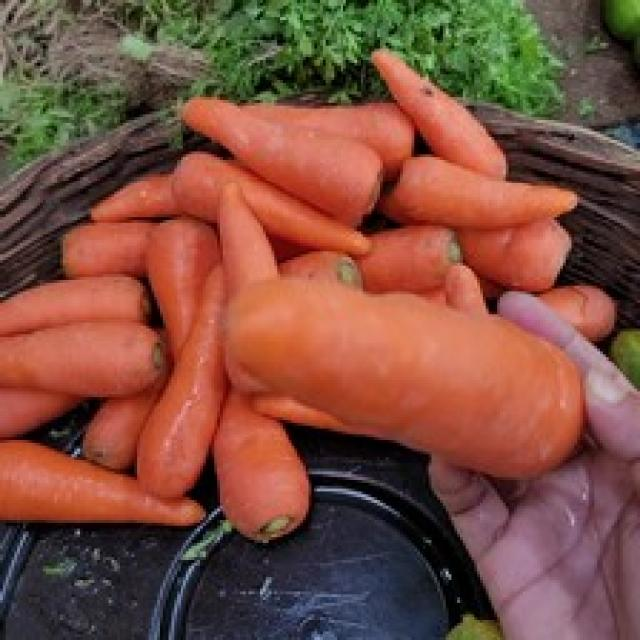Fresh_Carrot: (213, 279, 596, 476), (182, 103, 385, 217), (0, 442, 201, 528), (0, 319, 165, 393)
